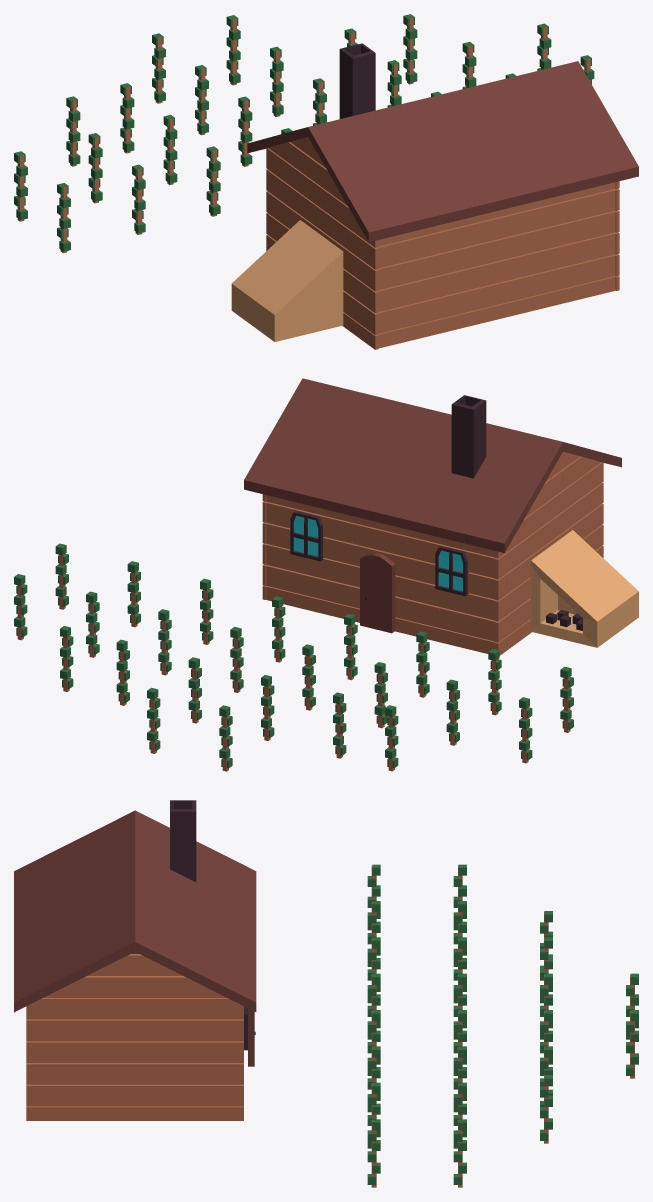
File: vineyard.fbx
The picture shows the model from 3 angles, top to bottom: view 1: azimuth 30°, elevation 25°; view 2: azimuth 150°, elevation 25°; view 3: azimuth 270°, elevation 25°; orthographic projection. The views are drawn at different scales.
Parts seen in each view (by area): view 1: Cube.029, Cube.014, Cube.072, Cube.034; view 2: Cube.029, Cube.014, Cube.072, Cube.034, Cube.032, Cube.031, Cube.030; view 3: Cube.029, Cube.014, Cube.072.
Boxes of the visible parts, left/top/right/bottom form: Cube.029: left=247, top=43, right=638, bottom=242; Cube.014: left=266, top=137, right=619, bottom=349; Cube.072: left=14, top=14, right=594, bottom=253; Cube.034: left=231, top=220, right=344, bottom=341; Cube.029: left=244, top=378, right=621, bottom=552; Cube.014: left=262, top=451, right=603, bottom=655; Cube.072: left=14, top=543, right=573, bottom=771; Cube.034: left=530, top=530, right=638, bottom=647; Cube.032: left=360, top=553, right=395, bottom=633; Cube.031: left=290, top=511, right=323, bottom=561; Cube.030: left=435, top=546, right=468, bottom=596; Cube.029: left=14, top=800, right=256, bottom=1012; Cube.014: left=26, top=954, right=243, bottom=1120; Cube.072: left=367, top=864, right=638, bottom=1187.
Bounding box in the file's own units: 14.2 × 5.84 × 14.52.
